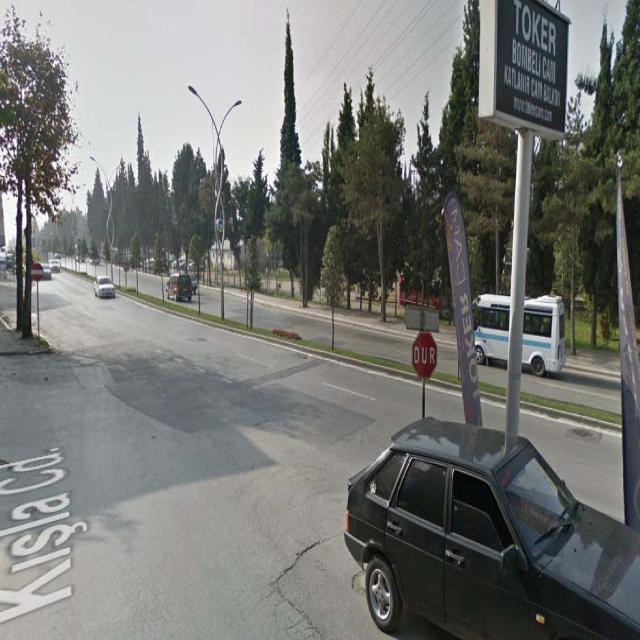dur: (412, 331, 438, 380)
girisyok: (31, 263, 45, 281)
